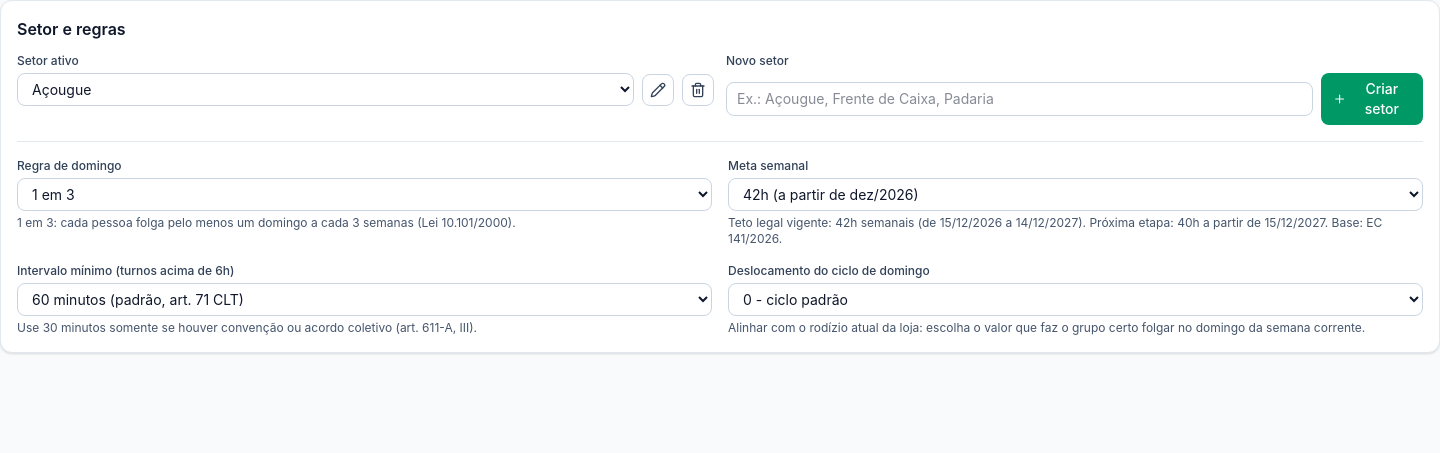
Test case: DepartmentSettings: teto legal (EC 141/2026) › mostra o teto vigente e aceita só meta inteira de 1 até o teto da data de hoje
This screenshot has width=1440, height=453.
Check: the text with test id "legal-cap" shows "Teto legal vigente: 42h semanais", box [728,215,1382,246]
Check: the text with test id "legal-cap" shows "40h a partir de 15/12/2027", box [728,215,1382,246]
Step 1. Select "Personalizada" in the dropdown labelled "Meta semanal" → (1076, 194), box [728,178,1423,211]
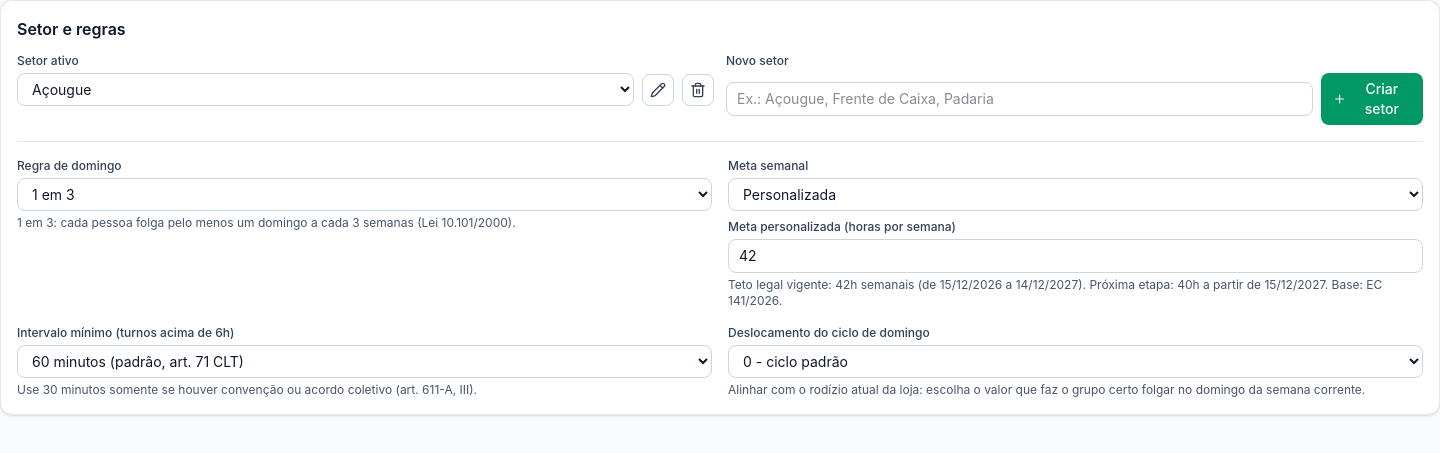
Step 2. Replace the text in the number field labelled "Meta personalizada (horas por semana)" with "41.5" → (1076, 256), box [728,239,1423,273]
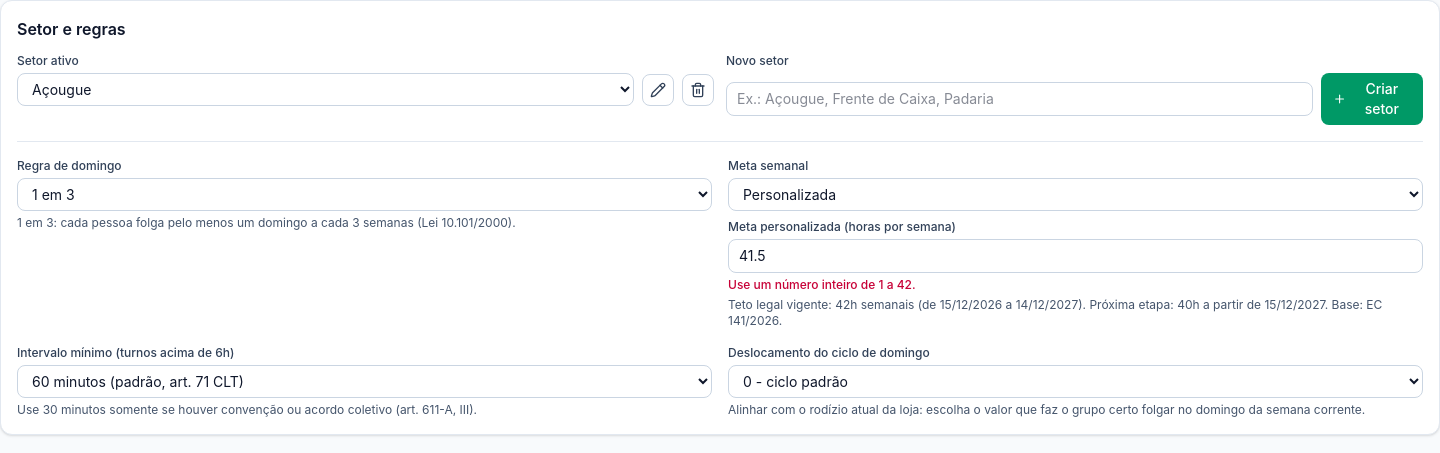
Check: the message reads "Use um número inteiro de 1 a 42.", box [728,277,916,292]
Step 3. Replace the text in the number field labelled "Meta personalizada (horas por semana)" with "43" → (1076, 256), box [728,239,1423,273]
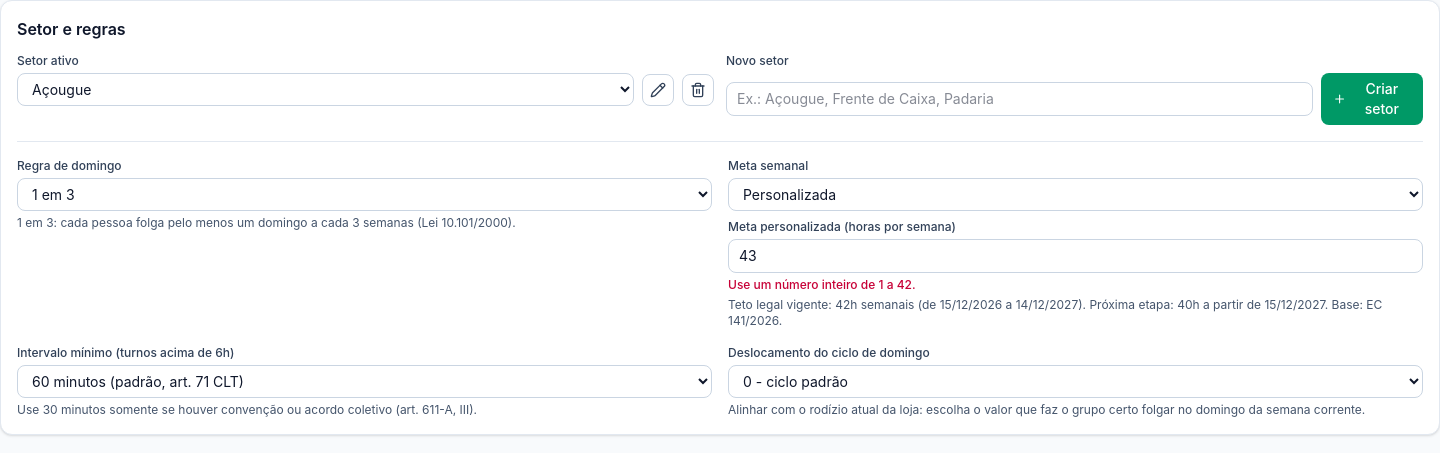
Step 4. Replace the text in the number field labelled "Meta personalizada (horas por semana)" with "41" → (1076, 256), box [728,239,1423,273]
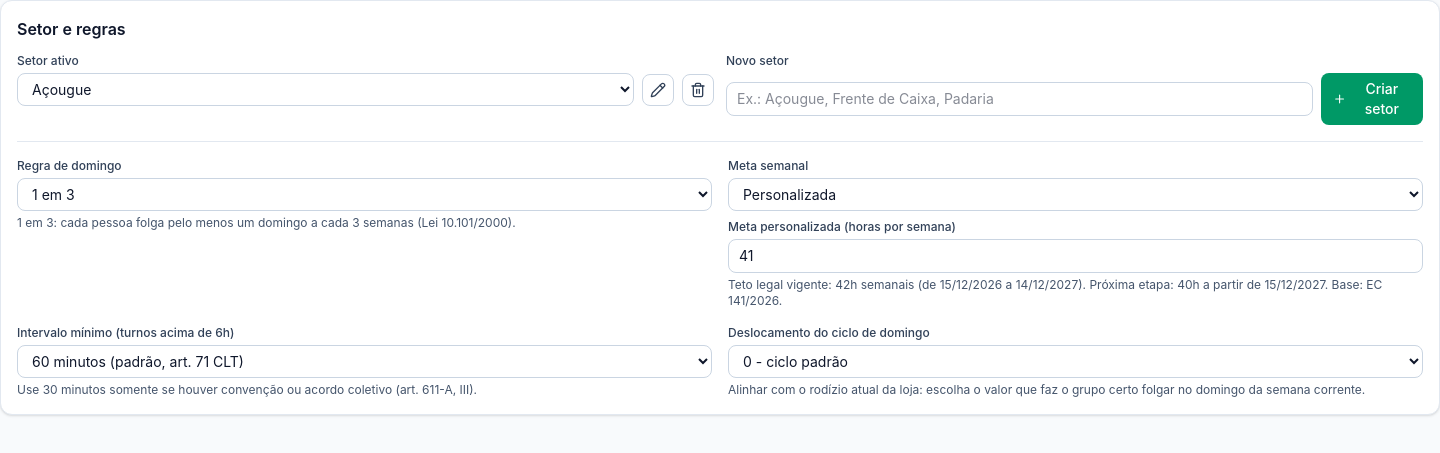
Check: the message "Use um número inteiro de 1 a 42." is gone
